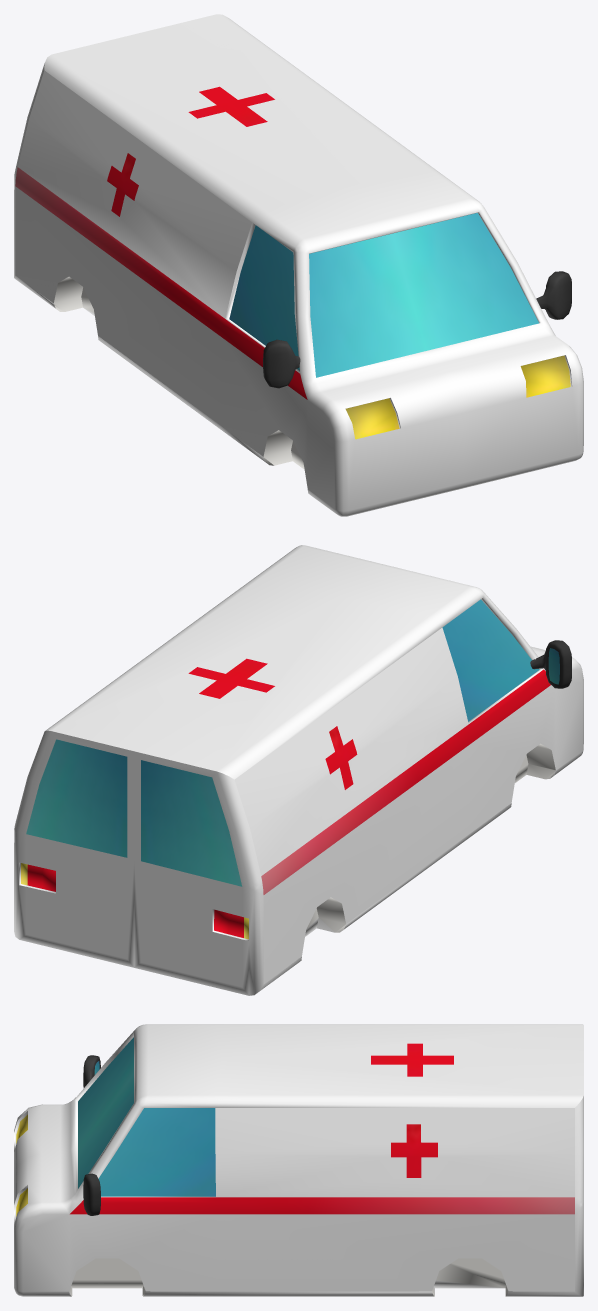
Rendered from ambulance_1.fbx.
The picture shows the model from 3 angles, top to bottom: view 1: azimuth 30°, elevation 25°; view 2: azimuth 150°, elevation 25°; view 3: azimuth 270°, elevation 25°; orthographic projection. The views are drawn at different scales.
Parts seen in each view (by area): view 1: ambulance_1; view 2: ambulance_1; view 3: ambulance_1.
Part boxes in pixels (left/top/right/bottom): ambulance_1: left=14, top=14, right=583, bottom=516; ambulance_1: left=14, top=545, right=583, bottom=995; ambulance_1: left=14, top=1024, right=583, bottom=1296.
Size of the model in its own units: 306 by 206 by 569.
Materials: 1 (1 with a texture image).
